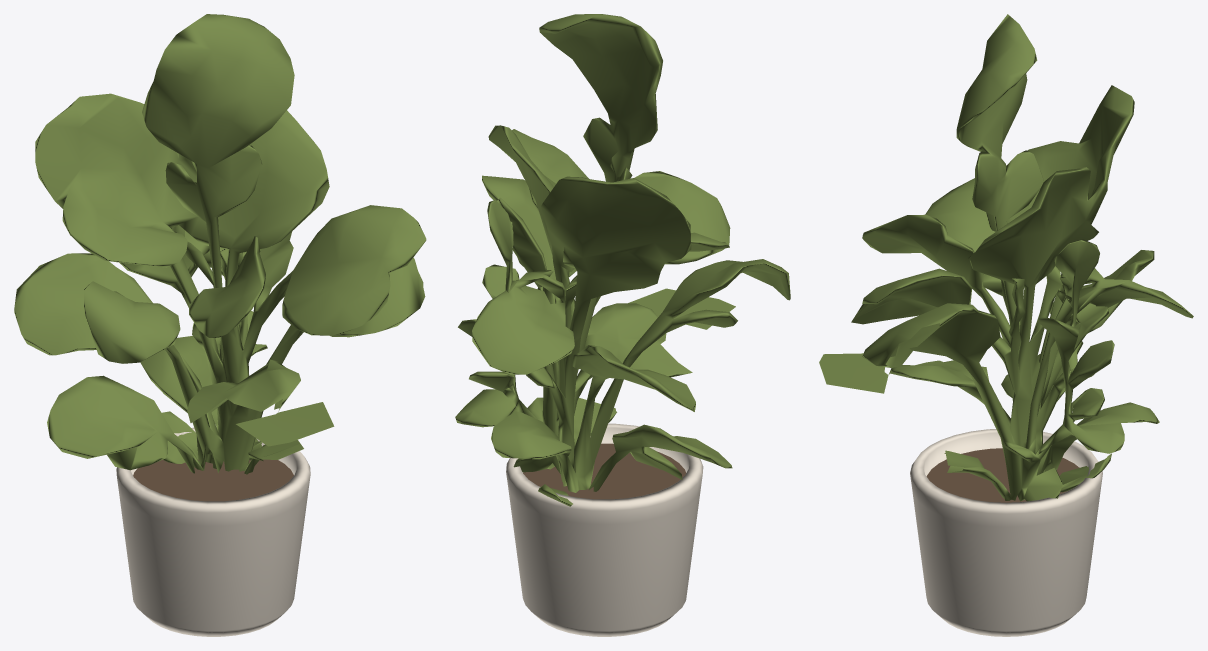
File: suite_plant_large.glb
The picture shows the model from 3 angles, left to right: view 1: azimuth 30°, elevation 25°; view 2: azimuth 150°, elevation 25°; view 3: azimuth 270°, elevation 25°; orthographic projection. The views are drawn at different scales.
Bounding box in the file's own units: 1.07 × 1.95 × 1.14.
